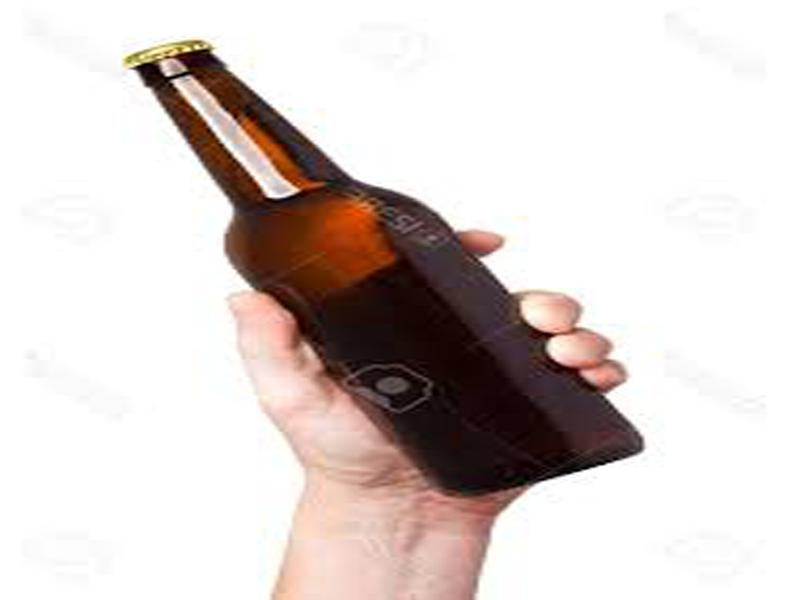Beer: (122, 40, 638, 494)
